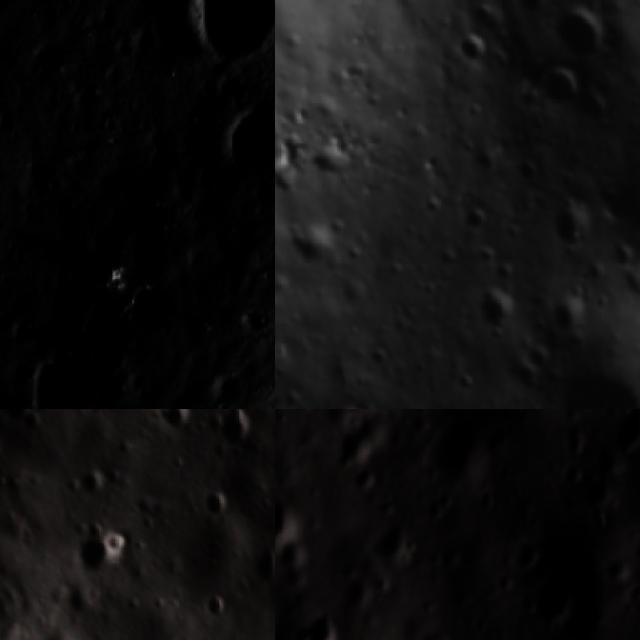crater: (171, 0, 275, 74), (205, 102, 275, 196), (24, 341, 117, 409), (537, 348, 640, 409), (541, 0, 621, 72), (119, 268, 194, 344), (431, 410, 496, 485), (542, 192, 603, 264), (467, 280, 527, 341), (61, 523, 120, 581), (283, 219, 342, 276), (531, 57, 586, 115), (444, 24, 496, 75), (544, 294, 594, 342), (369, 514, 418, 562), (531, 575, 576, 627), (211, 409, 257, 455), (602, 409, 640, 459), (197, 371, 246, 409), (289, 605, 341, 640), (573, 89, 615, 130), (200, 480, 237, 524), (275, 488, 302, 543), (143, 409, 194, 438), (321, 389, 390, 409), (235, 304, 270, 342), (0, 409, 45, 437), (245, 545, 275, 587), (196, 586, 228, 624), (510, 157, 545, 190), (556, 457, 588, 488)
